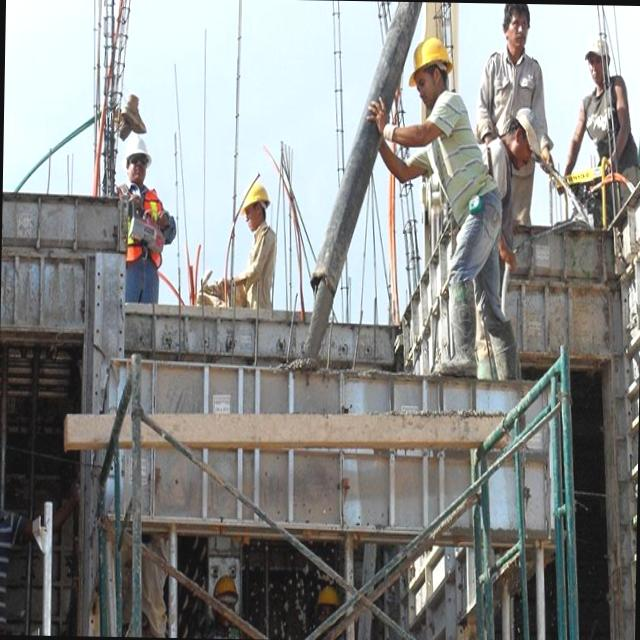helmet: (403, 32, 455, 94), (238, 182, 272, 215), (122, 129, 152, 162)
no-goggles: (414, 64, 436, 97)
no-vest: (431, 100, 477, 212), (584, 81, 632, 174), (246, 221, 276, 311), (496, 53, 534, 111)
vest: (117, 180, 162, 263)
